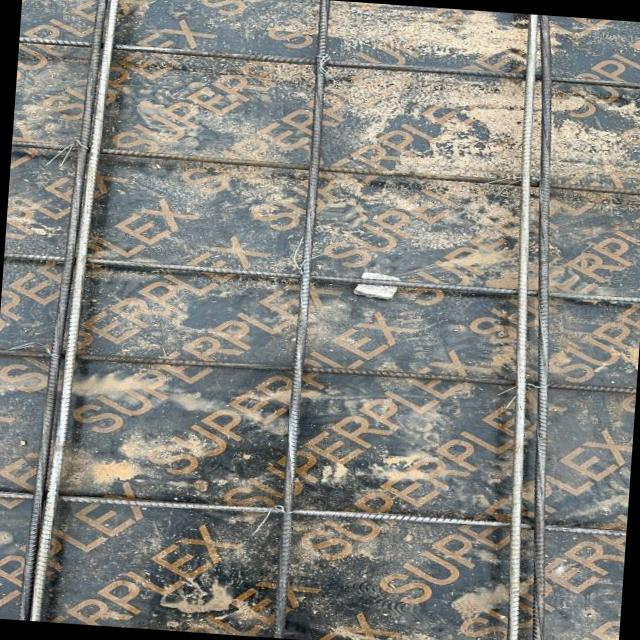ribbed bar: (12, 0, 120, 623), (494, 14, 587, 640), (480, 13, 561, 640), (269, 0, 330, 637), (11, 139, 640, 197), (0, 483, 625, 540), (0, 343, 635, 399), (18, 35, 640, 91), (3, 251, 640, 304)
